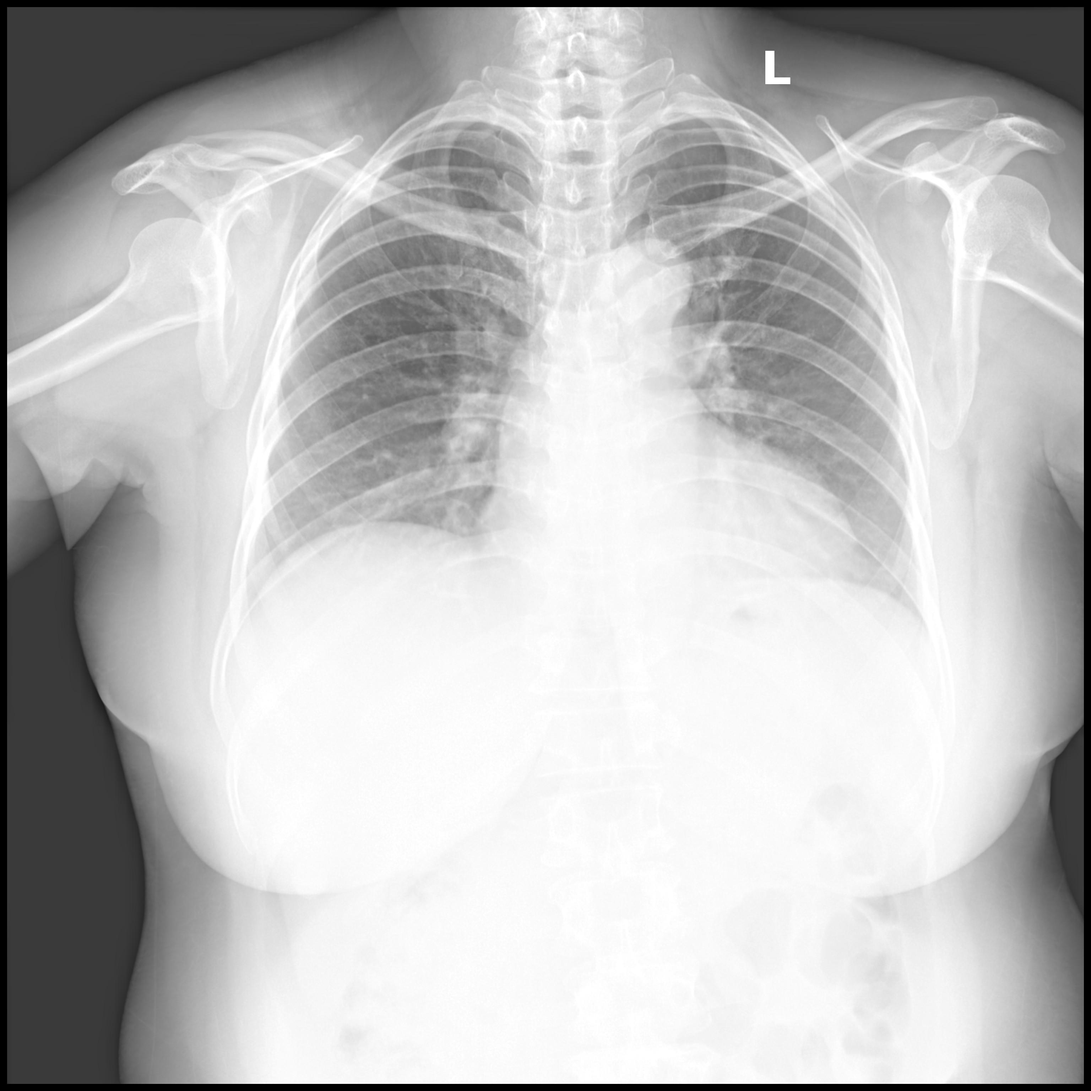Aortic enlargement: (594, 234, 701, 361)
Cardiomegaly: (469, 464, 858, 587)
